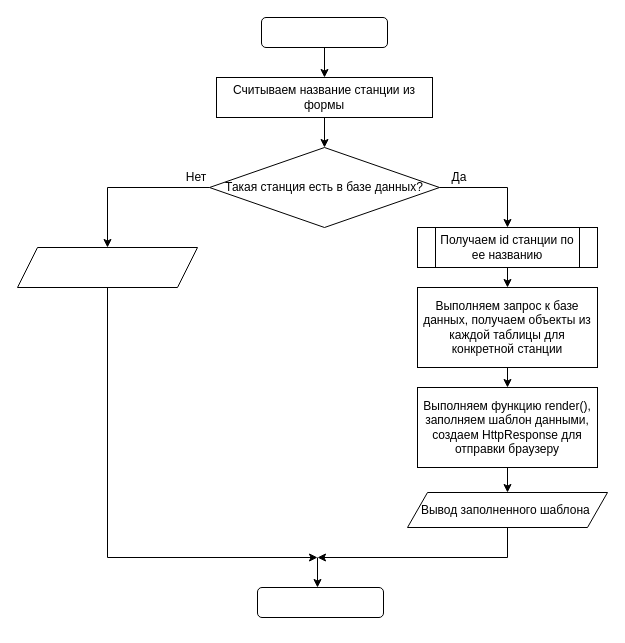
Image size: 625x643. Some labels were removed from this diagram. Each missing label, with the box of its shape:
Вывод шаблона с текстом ошибки: (16, 246, 198, 288)
Выход: (256, 586, 384, 618)
Начало: (260, 16, 388, 48)
